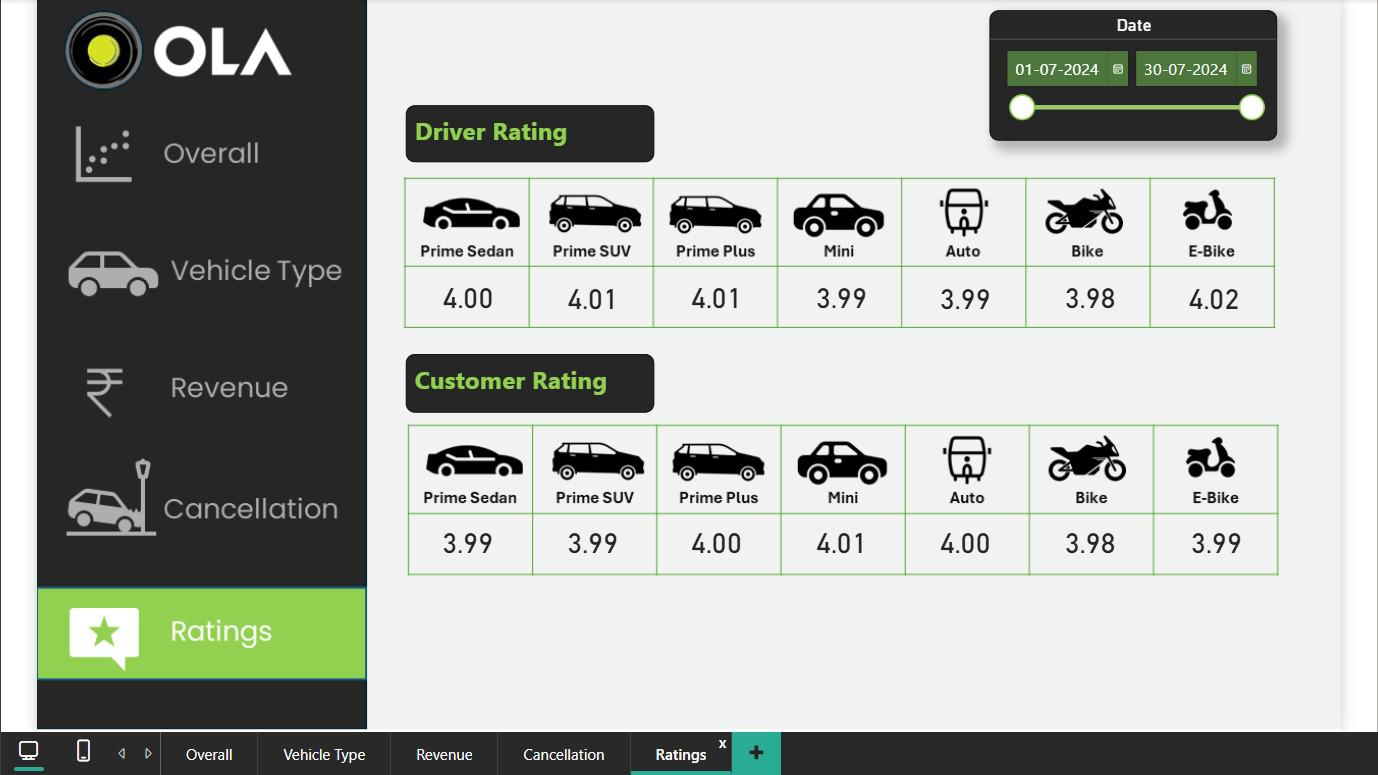

Layout of this report page (visuals, bound fields, positions):
{"tool":"powerbi","page":{"name":"Ratings","canvas":[1280,720],"ordinal":4},"visuals":[{"type":"actionButton","box":[0,580.4,322.7,92],"z":0},{"type":"actionButton","box":[0,454,322.7,92],"z":1000},{"type":"actionButton","box":[1.2,216,322.7,92],"z":2000},{"type":"actionButton","box":[0,335,322.7,92],"z":3000},{"type":"actionButton","box":[0,104.3,322.7,92],"z":4000},{"type":"card","fields":{"Values":["Avg(July.Driver_Ratings)"]},"box":[362,262.6,122.7,58.9],"z":5000},{"type":"card","fields":{"Values":["Avg(July.Driver_Ratings)"]},"box":[484.4,263.5,122.1,59],"z":6000},{"type":"card","fields":{"Values":["Avg(July.Driver_Ratings)"]},"box":[606.5,262.1,122.1,59],"z":7000},{"type":"card","fields":{"Values":["Avg(July.Driver_Ratings)"]},"box":[728.6,262.1,122.1,59],"z":8000},{"type":"card","fields":{"Values":["Avg(July.Driver_Ratings)"]},"box":[850.8,263.5,122.1,59],"z":9000},{"type":"card","fields":{"Values":["Avg(July.Driver_Ratings)"]},"box":[972.9,262.1,122.1,59],"z":10000},{"type":"card","fields":{"Values":["Avg(July.Driver_Ratings)"]},"box":[1095,263.5,122.1,59],"z":11000},{"type":"card","fields":{"Values":["Avg(July.Customer_Rating)"]},"box":[362.3,499.5,122.1,65.9],"z":12000},{"type":"card","fields":{"Values":["Avg(July.Customer_Rating)"]},"box":[484.4,499.5,122.1,65.9],"z":13000},{"type":"card","fields":{"Values":["Avg(July.Customer_Rating)"]},"box":[606.5,499.5,122.1,65.9],"z":14000},{"type":"card","fields":{"Values":["Avg(July.Customer_Rating)"]},"box":[728.6,499.5,122.1,65.9],"z":15000},{"type":"card","fields":{"Values":["Avg(July.Customer_Rating)"]},"box":[850.8,499.5,122.1,65.9],"z":16000},{"type":"card","fields":{"Values":["Avg(July.Customer_Rating)"]},"box":[972.9,499.5,122.1,65.9],"z":17000},{"type":"card","fields":{"Values":["Avg(July.Customer_Rating)"]},"box":[1096.4,499.5,122.1,65.9],"z":18000},{"type":"textbox","box":[362.3,104.3,244.3,56.3],"z":19000},{"type":"textbox","box":[362.3,348.5,244.3,57.6],"z":20000},{"type":"slicer","title":"Date","fields":{"Values":["July.Date"]},"box":[934.5,11,282.7,127.6],"z":21000}]}

Visuals, with their boxes on the page's 1280x720 design canvas (x1, y1, x2, y2). These are canvas units, not pixel positions in the 1378x775 screenshot, which may show the page scaled, cropped or inside an application window:
actionButton: <bbox>0, 580, 323, 672</bbox>
actionButton: <bbox>0, 454, 323, 546</bbox>
actionButton: <bbox>1, 216, 324, 308</bbox>
actionButton: <bbox>0, 335, 323, 427</bbox>
actionButton: <bbox>0, 104, 323, 196</bbox>
card - Avg(July.Driver_Ratings): <bbox>362, 263, 485, 322</bbox>
card - Avg(July.Driver_Ratings): <bbox>484, 264, 606, 322</bbox>
card - Avg(July.Driver_Ratings): <bbox>606, 262, 729, 321</bbox>
card - Avg(July.Driver_Ratings): <bbox>729, 262, 851, 321</bbox>
card - Avg(July.Driver_Ratings): <bbox>851, 264, 973, 322</bbox>
card - Avg(July.Driver_Ratings): <bbox>973, 262, 1095, 321</bbox>
card - Avg(July.Driver_Ratings): <bbox>1095, 264, 1217, 322</bbox>
card - Avg(July.Customer_Rating): <bbox>362, 500, 484, 565</bbox>
card - Avg(July.Customer_Rating): <bbox>484, 500, 606, 565</bbox>
card - Avg(July.Customer_Rating): <bbox>606, 500, 729, 565</bbox>
card - Avg(July.Customer_Rating): <bbox>729, 500, 851, 565</bbox>
card - Avg(July.Customer_Rating): <bbox>851, 500, 973, 565</bbox>
card - Avg(July.Customer_Rating): <bbox>973, 500, 1095, 565</bbox>
card - Avg(July.Customer_Rating): <bbox>1096, 500, 1218, 565</bbox>
textbox: <bbox>362, 104, 607, 161</bbox>
textbox: <bbox>362, 348, 607, 406</bbox>
"Date" slicer: <bbox>934, 11, 1217, 139</bbox>
